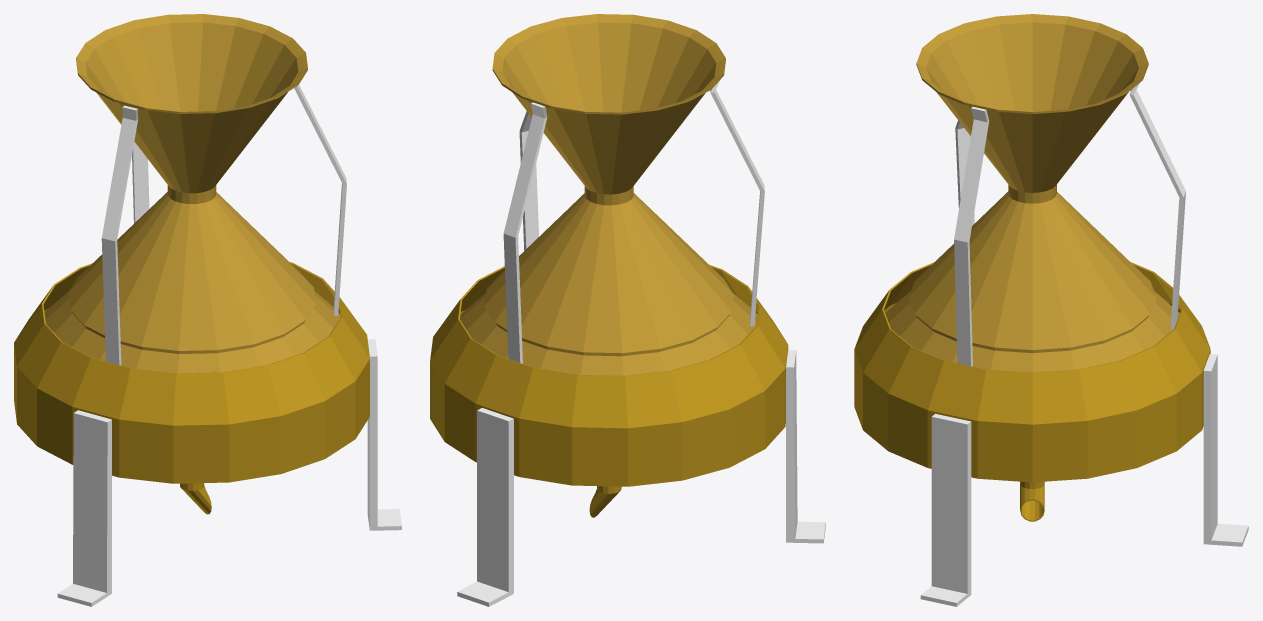
Rendered from Homogenizador.fbx.
3 views of the same model, side by side, from view 1: azimuth 30°, elevation 25°; view 2: azimuth 150°, elevation 25°; view 3: azimuth 270°, elevation 25° (orthographic).
Parts seen in each view (by area): view 1: Cono, Base, Pata, Soporte, ConoInferior; view 2: Cono, Base, Pata, Soporte, ConoInferior; view 3: Cono, Base, Pata, Soporte, ConoInferior.
Boxes of the visible parts, left/top/right/bottom form: Cono: left=44, top=14, right=340, bottom=373; Base: left=14, top=262, right=369, bottom=483; Pata: left=57, top=339, right=401, bottom=606; Soporte: left=101, top=85, right=346, bottom=365; ConoInferior: left=180, top=483, right=211, bottom=514; Cono: left=460, top=14, right=757, bottom=375; Base: left=430, top=265, right=788, bottom=486; Pata: left=457, top=350, right=825, bottom=606; Soporte: left=503, top=80, right=764, bottom=363; ConoInferior: left=589, top=486, right=621, bottom=517; Cono: left=885, top=14, right=1179, bottom=372; Base: left=854, top=262, right=1210, bottom=482; Pata: left=920, top=354, right=1248, bottom=606; Soporte: left=954, top=83, right=1185, bottom=366; ConoInferior: left=1020, top=481, right=1044, bottom=521.
Bounding box in the file's own units: 179 × 230 × 178.
